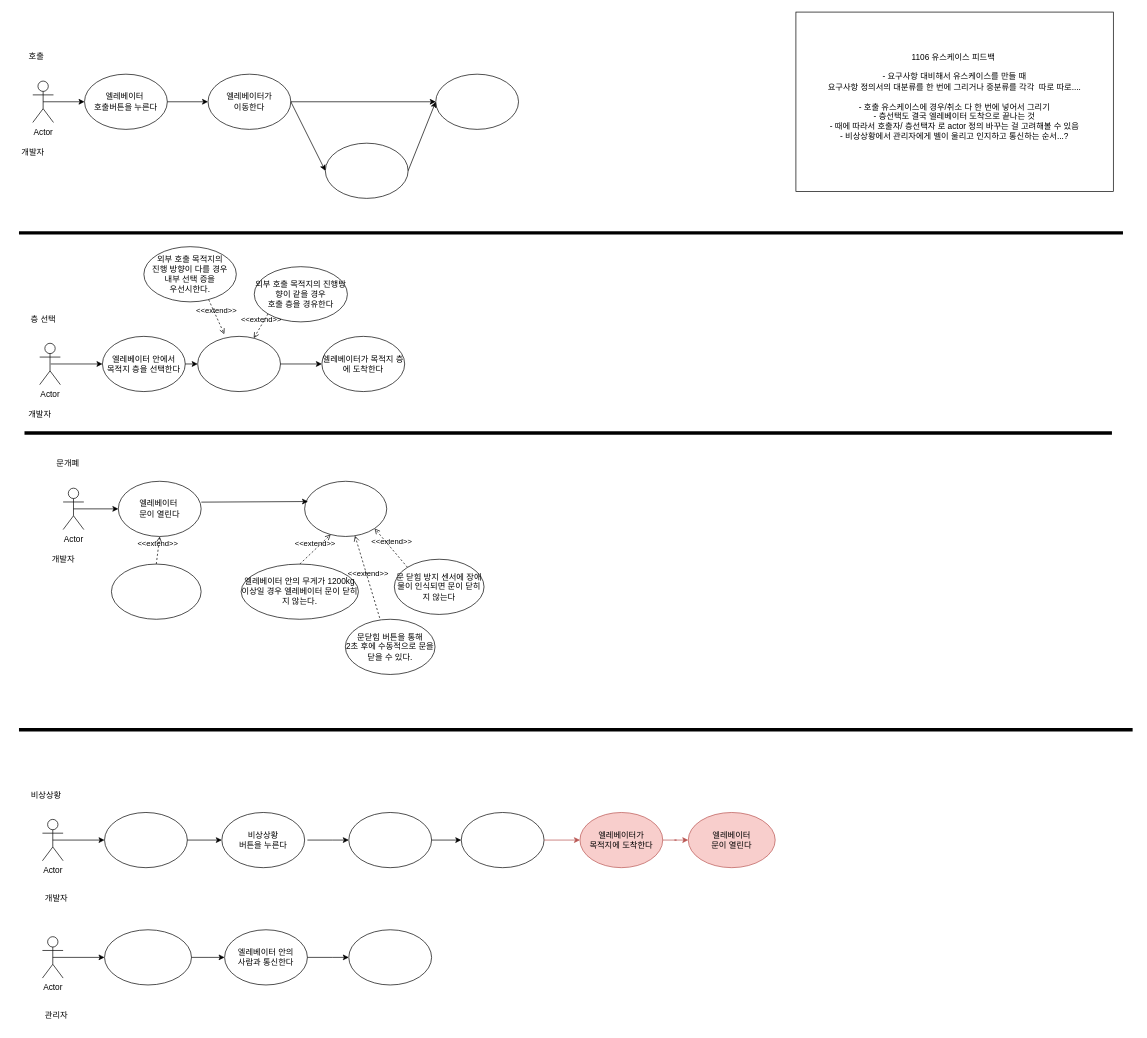
The diagram is 1147 pixels wide and 1038 high, and some of its shapes have lost their labels. The shapes that lost their labels are listed below. From the top down, each one's centre as x and y in pixels, then its label:
[477,101]: 엘레베이터가 호출된 층에 도착한다
[366,170]: 엘레베이터가 경유지에 도착한다
[238,364]: 엘레베이터가 운행한다
[345,508]: 엘레베이터의 문이 닫힌다.
[156,591]: 문열림 버튼을 통해 2초 후에 수동적으로 문을 열어 놓을 수 있다.
[145,840]: 비상상황임을 인지한다
[390,840]: 관리자와 통신한다
[502,840]: 비상상황이 종료된다
[147,957]: 엘레베이터 비상호출로 엘레베이터와 연결된다
[390,957]: 비상 호출을 취소한다
